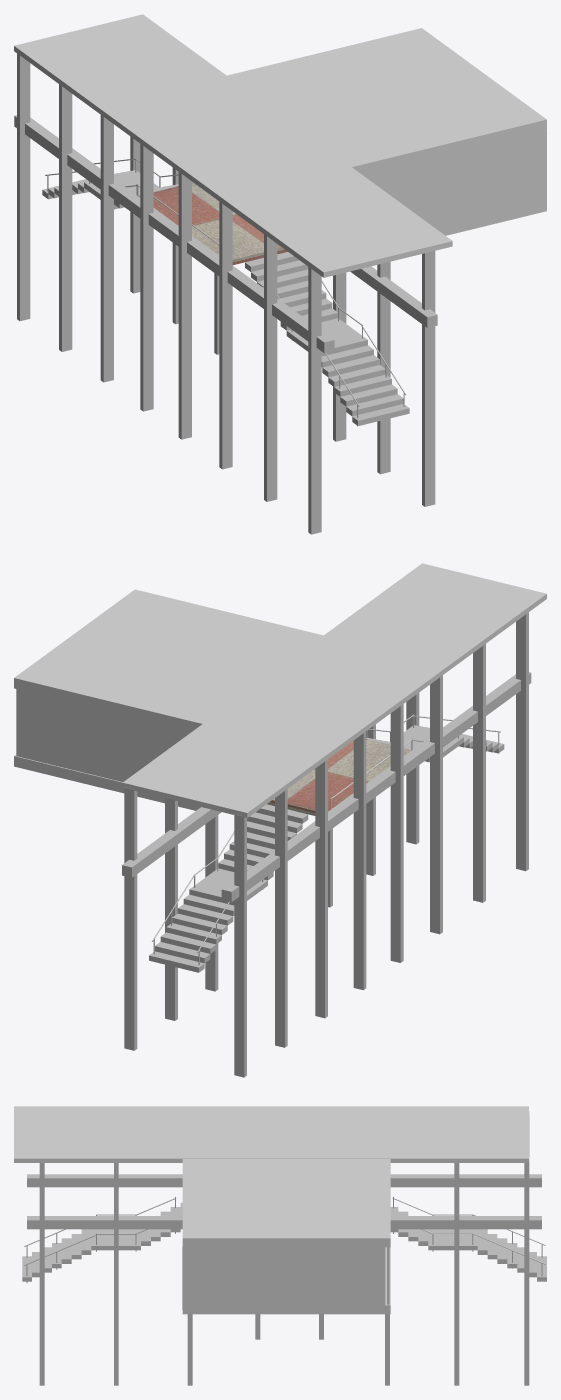
File: bejarat+aula.fbx
3 views of the same model, one above another, from view 1: azimuth 30°, elevation 25°; view 2: azimuth 150°, elevation 25°; view 3: azimuth 270°, elevation 25° (orthographic). The views are drawn at different scales.
Parts seen in each view (by area): view 1: Cube.052, Cube.046, Cube.056, Cube, Cube.037, Cube.039, Cube.042, Cube.038, Cube.040, Cube.036, Cube.035, Cube.041 (+16 smaller); view 2: Cube.052, Cube.046, Cube.055, Cube, Cube.038, Cube.039, Cube.050, Cube.035, Cube.003, Cube.036, Cube.040, Cube.041 (+10 smaller); view 3: Cube.052, Cube.046, Cube.057, Cube, Cube.051, Cube.054, Cube.050, Cube.043, Cube.049, Cube.044, Cube.026, Cube.019 (+2 smaller).
Part boxes in pixels (left/top/right/bottom): Cube.052: left=14, top=14, right=452, bottom=277; Cube.046: left=227, top=28, right=546, bottom=175; Cube.056: left=363, top=131, right=544, bottom=227; Cube: left=14, top=115, right=334, bottom=353; Cube.037: left=100, top=115, right=113, bottom=382; Cube.039: left=178, top=172, right=191, bottom=439; Cube.042: left=308, top=267, right=321, bottom=534; Cube.038: left=140, top=144, right=153, bottom=411; Cube.040: left=219, top=202, right=232, bottom=469; Cube.036: left=59, top=84, right=72, bottom=351; Cube.035: left=17, top=53, right=30, bottom=321; Cube.041: left=264, top=234, right=277, bottom=501; Cube.052: left=122, top=563, right=546, bottom=818; Cube.046: left=14, top=589, right=323, bottom=731; Cube.055: left=16, top=689, right=191, bottom=781; Cube: left=221, top=672, right=531, bottom=902; Cube.038: left=353, top=731, right=366, bottom=990; Cube.039: left=390, top=704, right=403, bottom=962; Cube.050: left=124, top=787, right=137, bottom=1050; Cube.035: left=234, top=814, right=246, bottom=1077; Cube.003: left=267, top=739, right=411, bottom=815; Cube.036: left=275, top=789, right=287, bottom=1047; Cube.040: left=430, top=675, right=442, bottom=934; Cube.041: left=473, top=644, right=485, bottom=902; Cube.052: left=14, top=1106, right=528, bottom=1162; Cube.046: left=182, top=1159, right=390, bottom=1247; Cube.057: left=182, top=1246, right=385, bottom=1309; Cube: left=27, top=1174, right=541, bottom=1187; Cube.051: left=27, top=1216, right=541, bottom=1229; Cube.054: left=182, top=1247, right=390, bottom=1314; Cube.050: left=524, top=1157, right=529, bottom=1385; Cube.043: left=39, top=1163, right=44, bottom=1385; Cube.049: left=454, top=1163, right=459, bottom=1385; Cube.044: left=114, top=1163, right=118, bottom=1385; Cube.026: left=91, top=1229, right=140, bottom=1250; Cube.019: left=428, top=1229, right=477, bottom=1250.
Size of the model in its own units: 6291 by 5079 by 10765.
